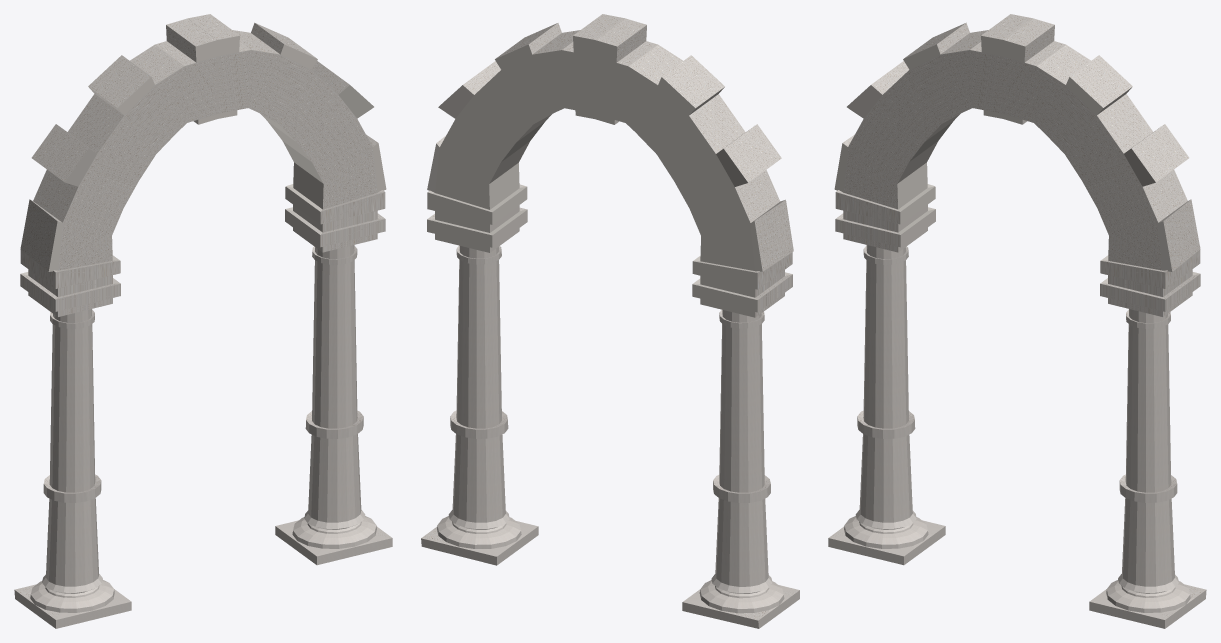
The model's file is stone_archway.fbx.
3 views of the same model, side by side, from view 1: azimuth 30°, elevation 25°; view 2: azimuth 150°, elevation 25°; view 3: azimuth 330°, elevation 25° (orthographic).
Visible parts, largest first — view 1: Stone Archway; view 2: Stone Archway; view 3: Stone Archway.
Part boxes in pixels (x1=…): Stone Archway: x1=14, y1=14, x2=392, y2=628; Stone Archway: x1=421, y1=14, x2=799, y2=628; Stone Archway: x1=828, y1=14, x2=1206, y2=628.
Size of the model in its own units: 720 by 1106 by 153.
